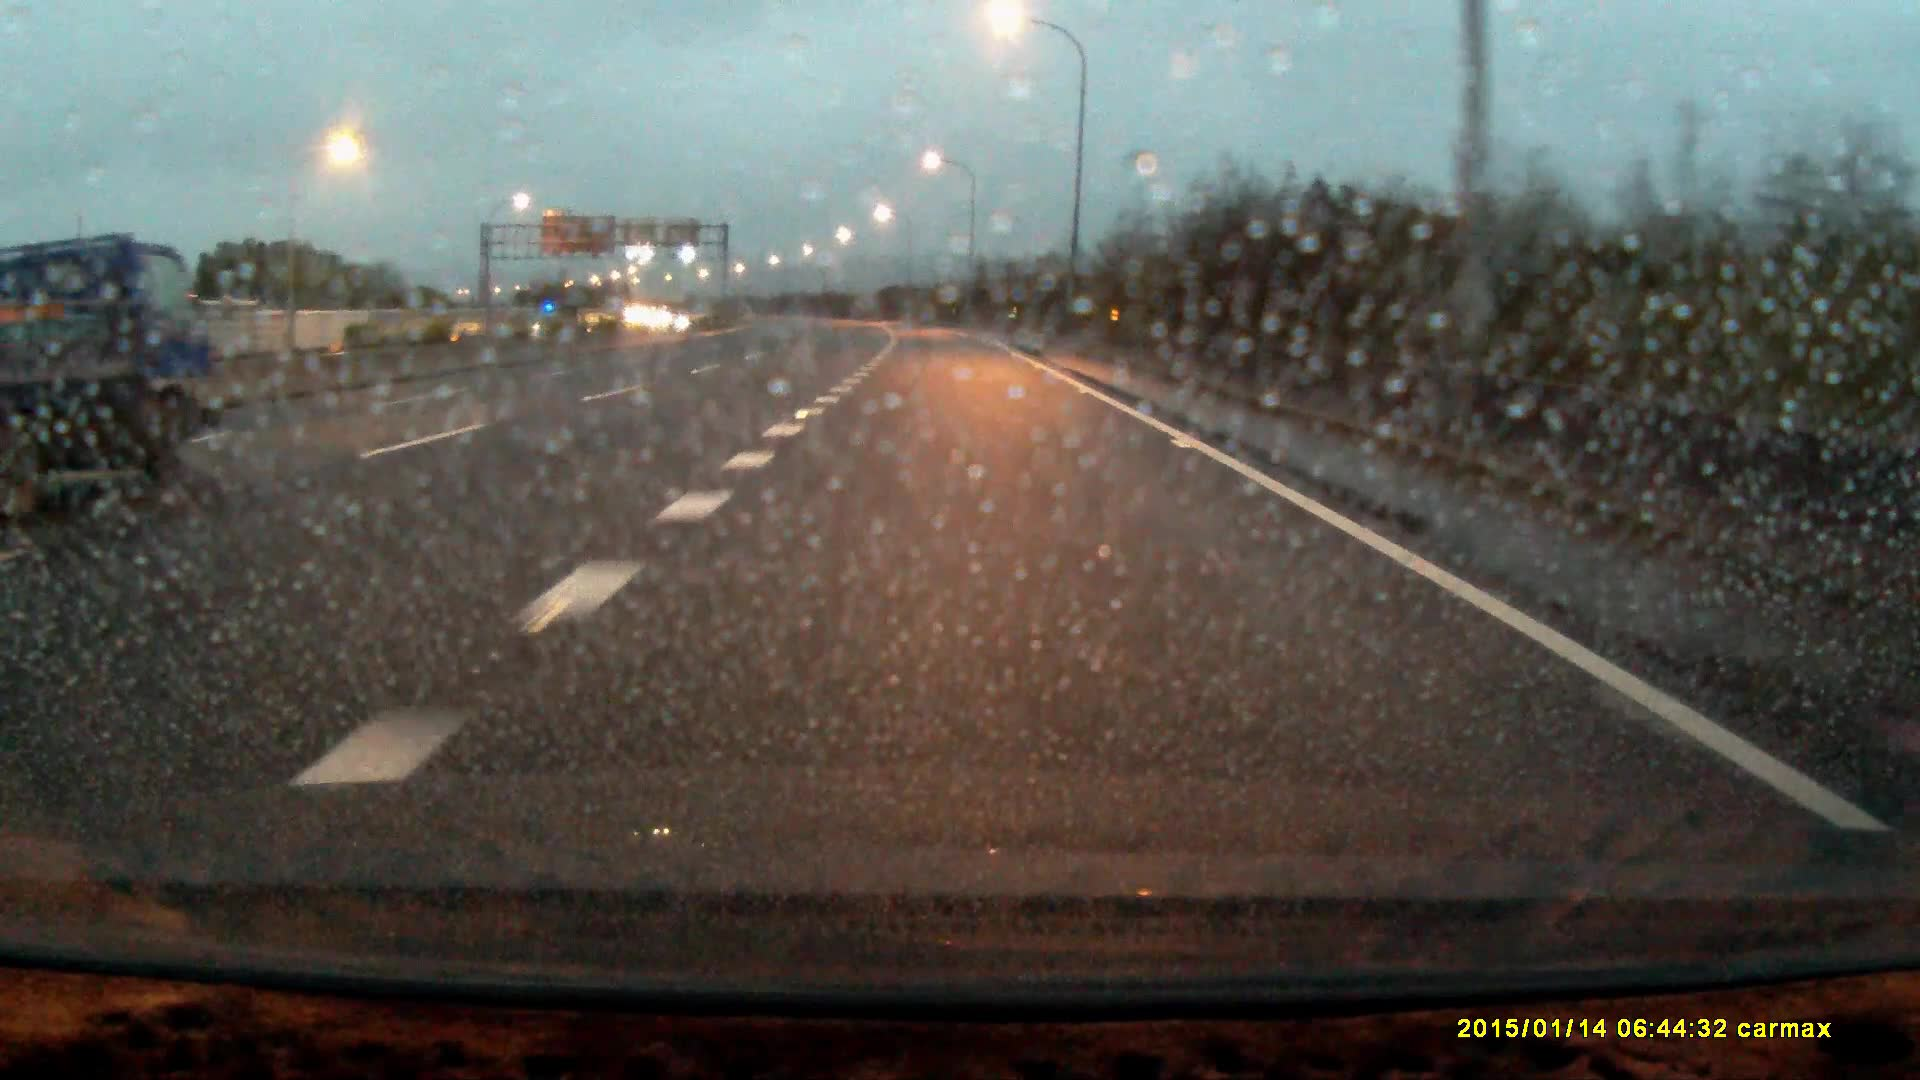vehicle: (1, 220, 272, 524)
